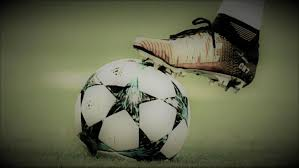football ball: (73, 58, 189, 166)
